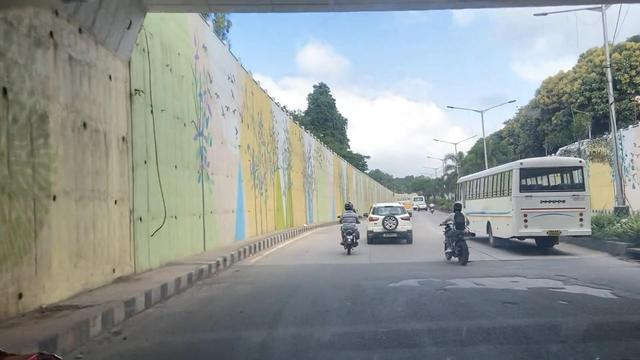HMV: (456, 156, 586, 248)
LMV: (441, 203, 473, 259), (371, 207, 413, 243), (340, 203, 363, 254)
RoadDamages: (392, 270, 621, 310)
